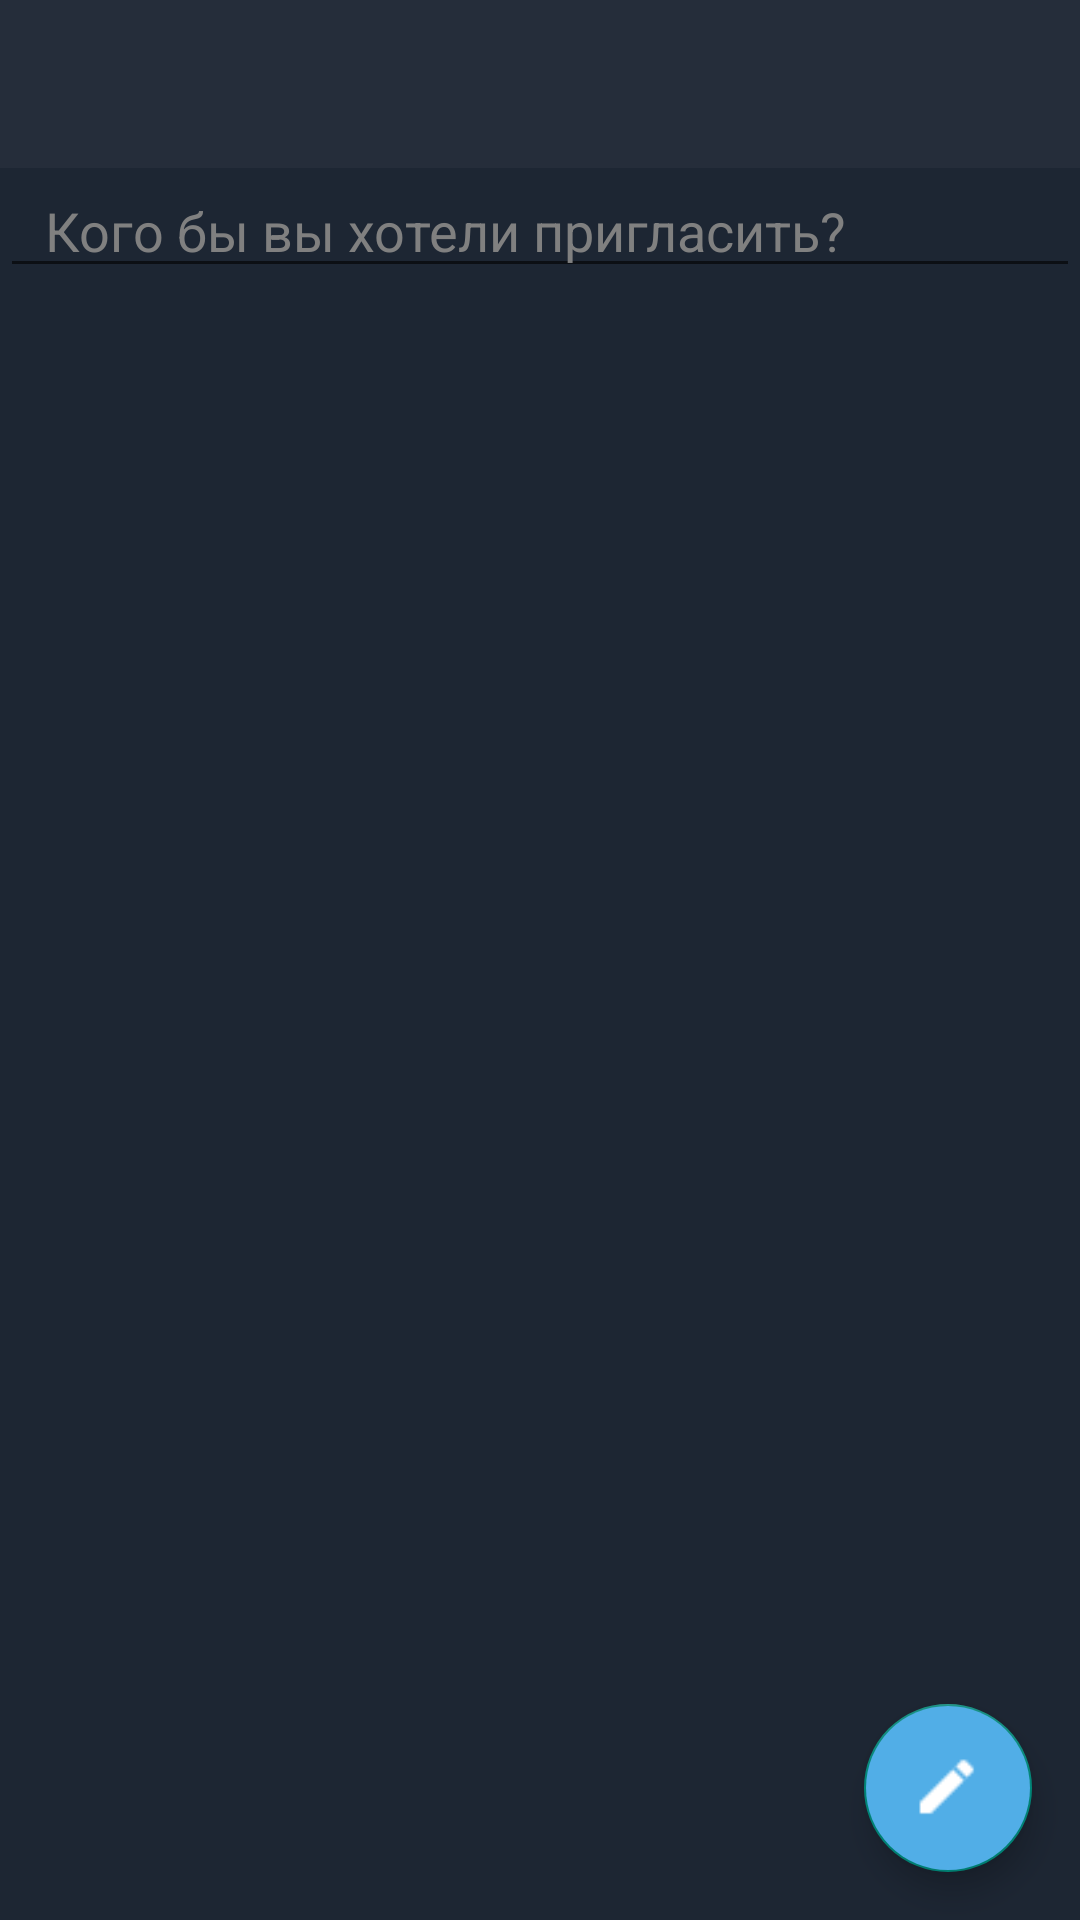

Screen size 1080px×1920px. Icon name, then its box in pixels as (x1, y1, x2, y2):
floating pencil: (864, 1704, 1032, 1872)
